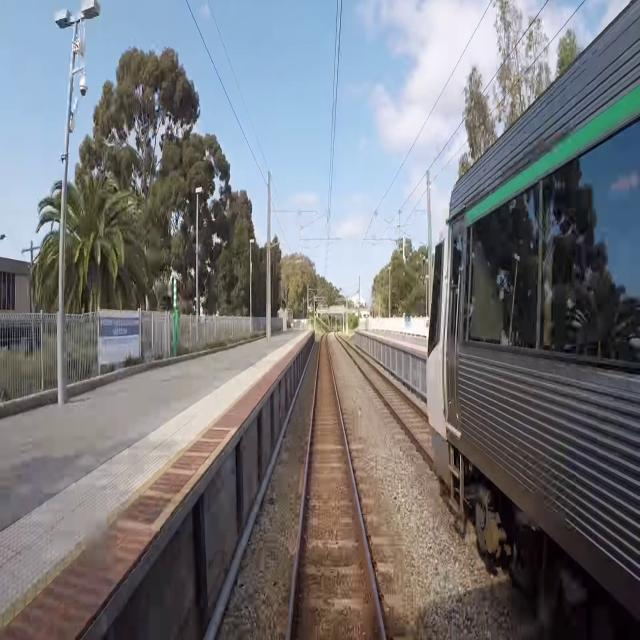rail-track: (291, 335, 382, 639), (344, 343, 432, 450)
